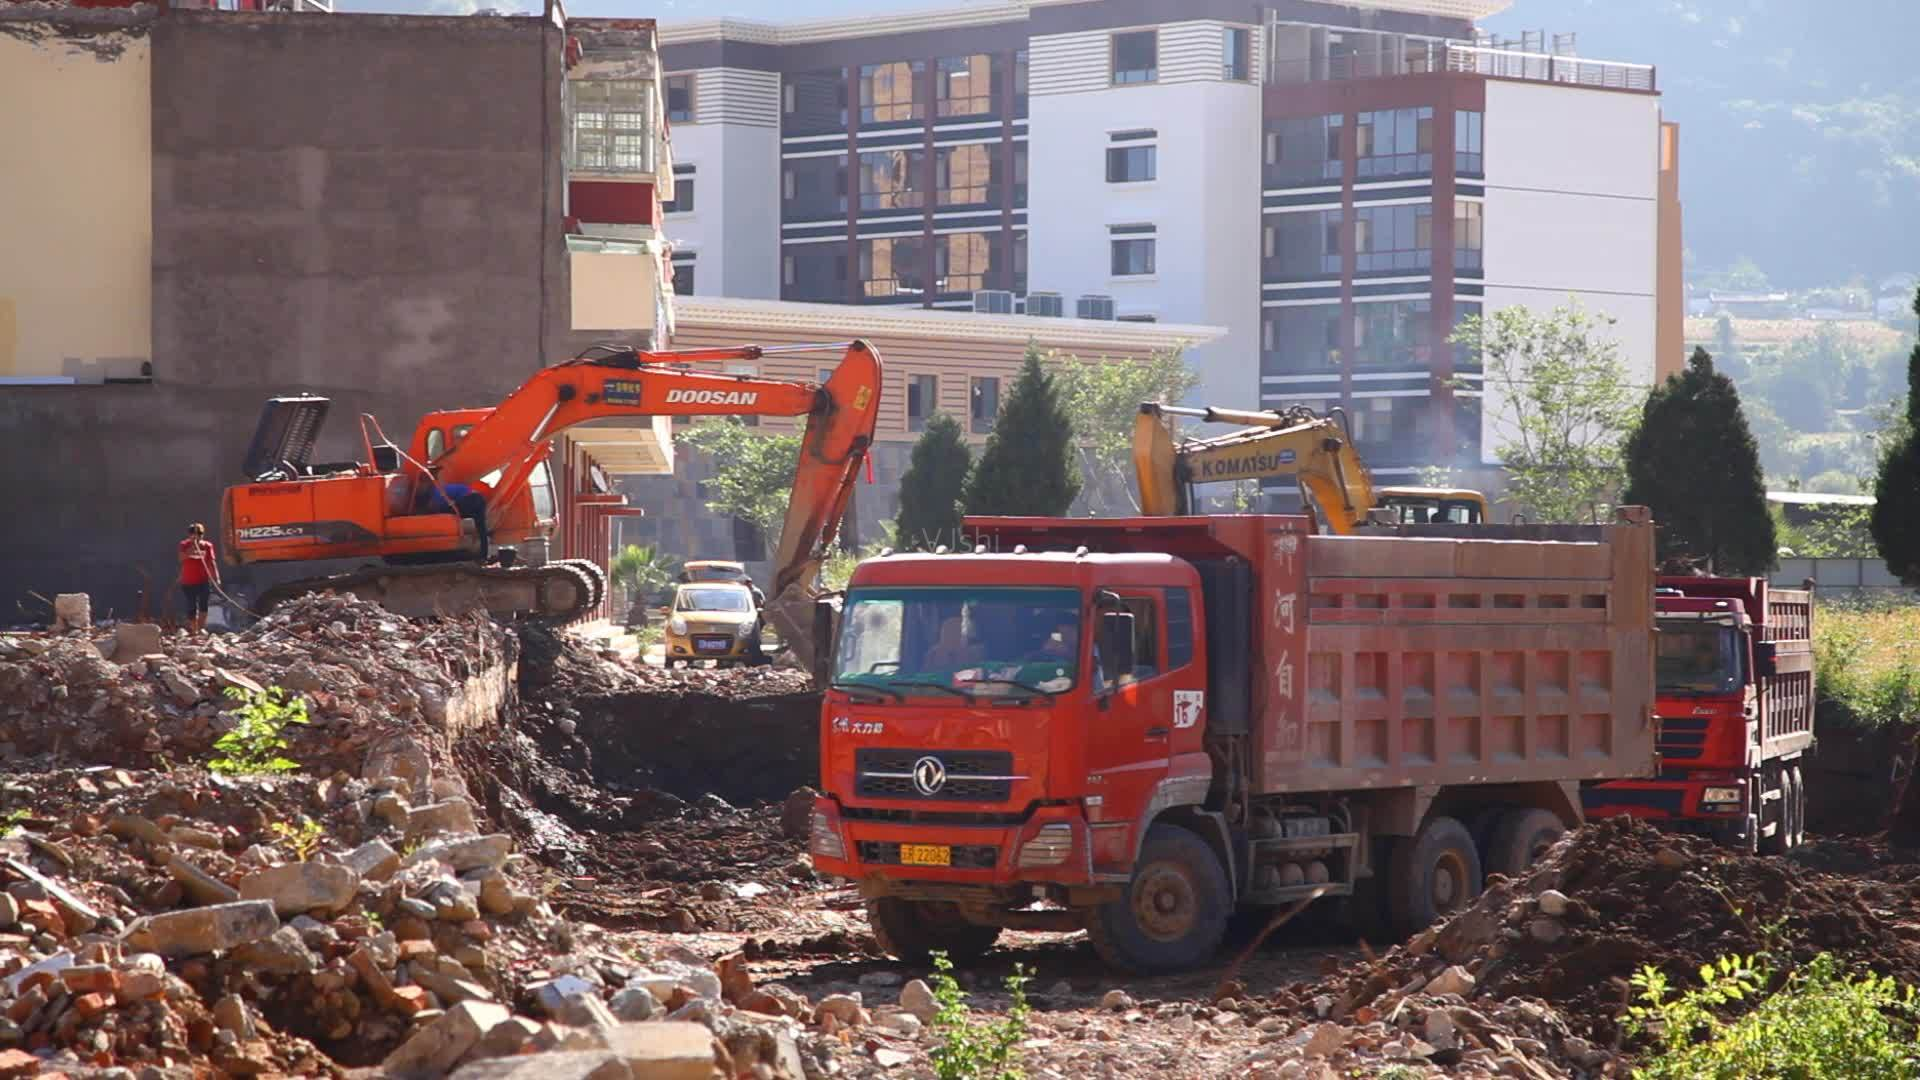excavator: (218, 316, 895, 688)
